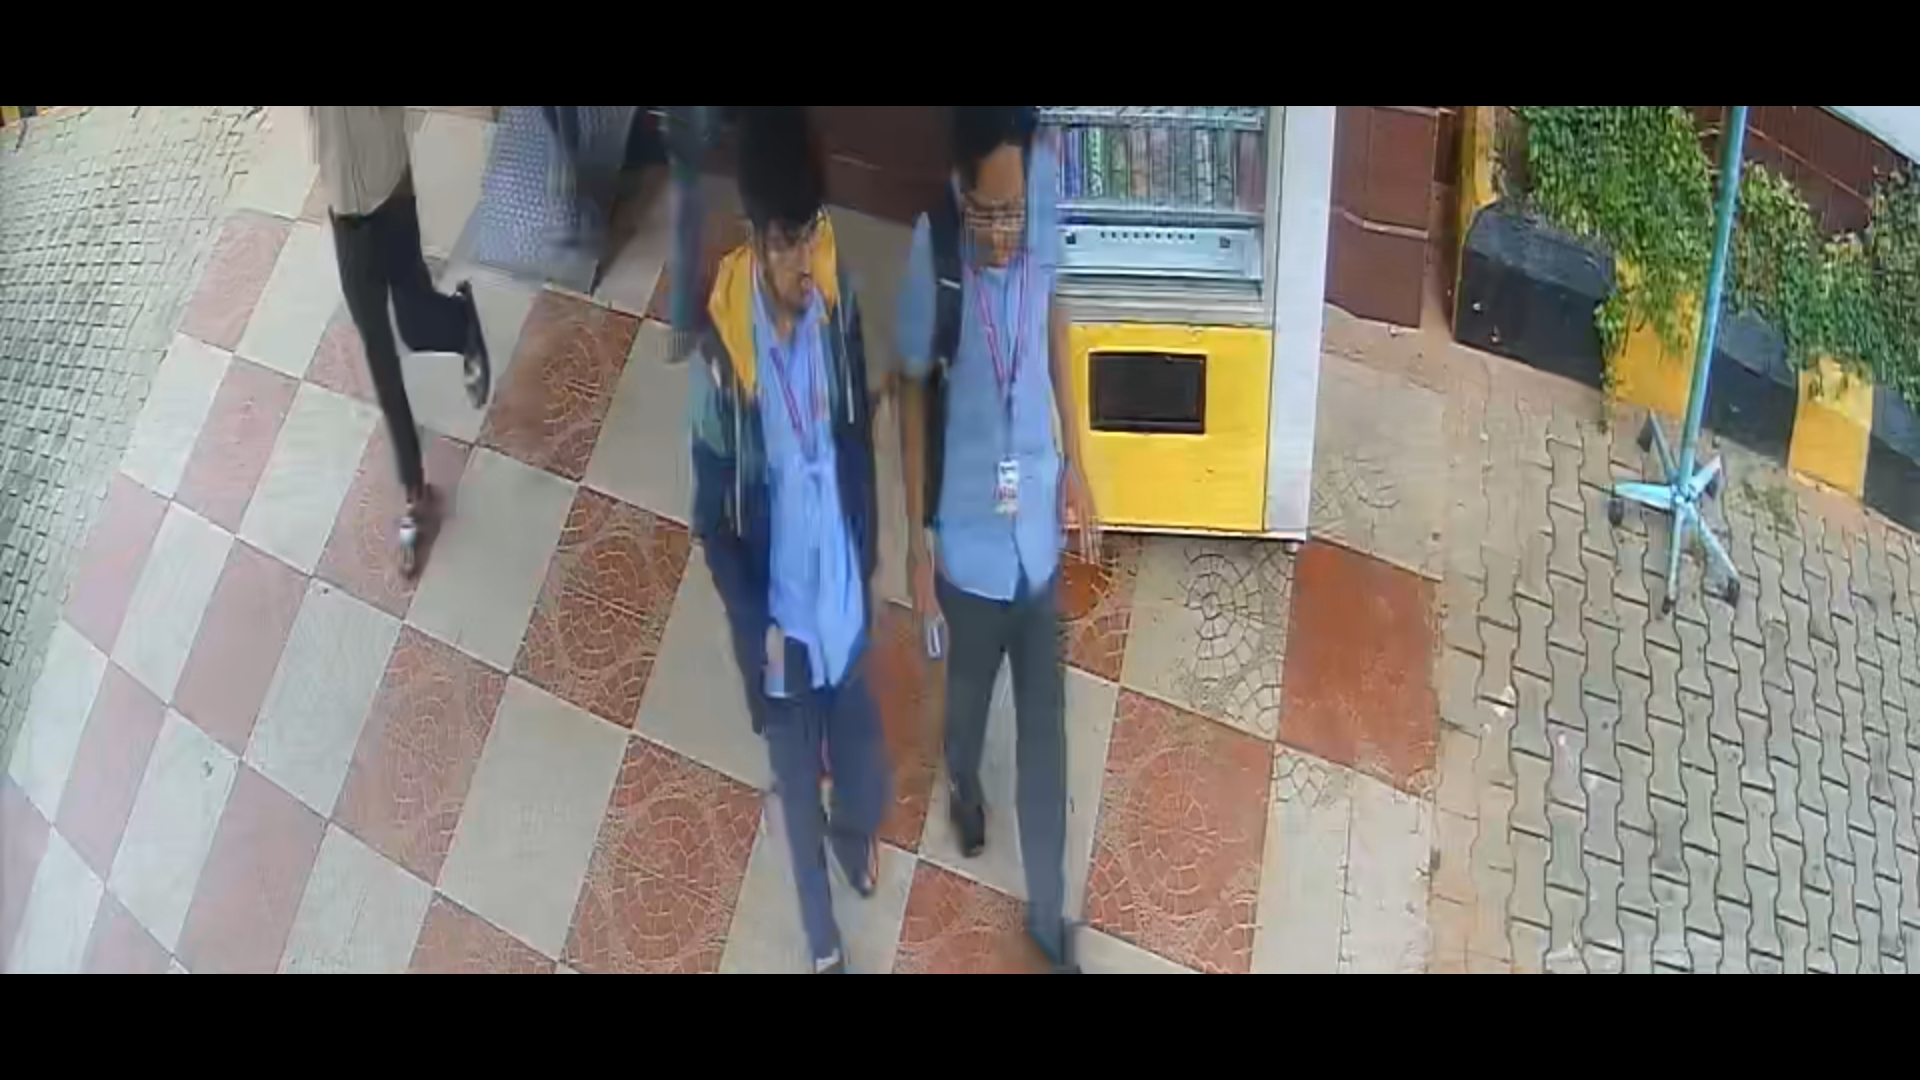not intruder: (675, 107, 932, 975), (915, 103, 1125, 967)
